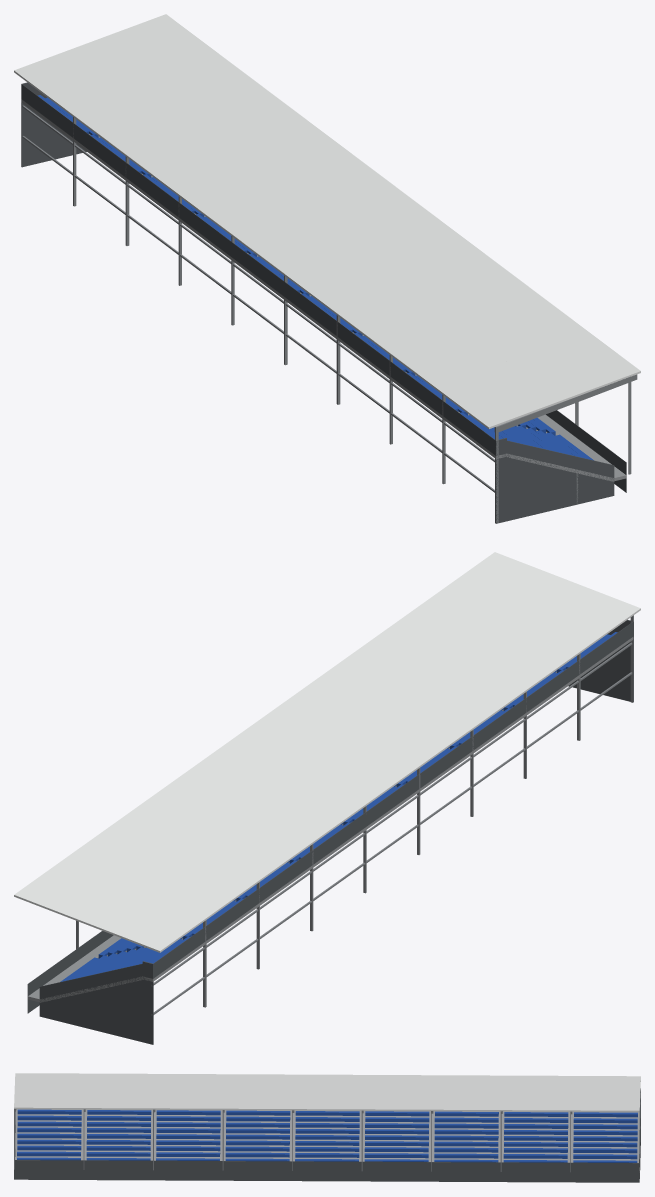
The model's file is spa_stand_gold6.glb.
3 views of the same model, one above another, from view 1: azimuth 30°, elevation 25°; view 2: azimuth 150°, elevation 25°; view 3: azimuth 270°, elevation 25° (orthographic). The views are drawn at different scales.
Parts seen in each view (by area): view 1: spa-gold6; view 2: spa-gold6; view 3: spa-gold6.
Boxes of the visible parts, bbox=[...] form: spa-gold6: bbox=[14, 14, 640, 523]; spa-gold6: bbox=[14, 552, 640, 1044]; spa-gold6: bbox=[14, 1073, 640, 1182].
Bounding box in the file's own units: 13.3 × 9.36 × 69.54.
